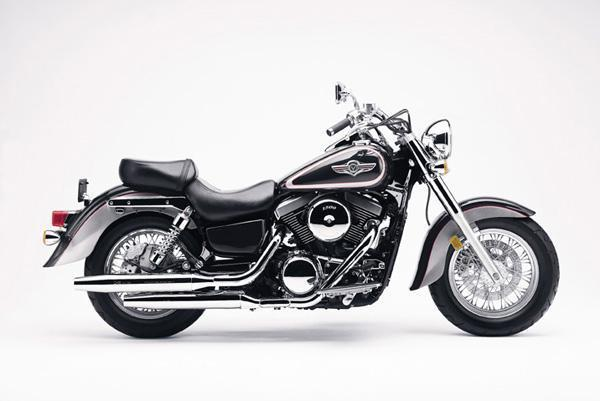motorcycle: (19, 75, 567, 350)
